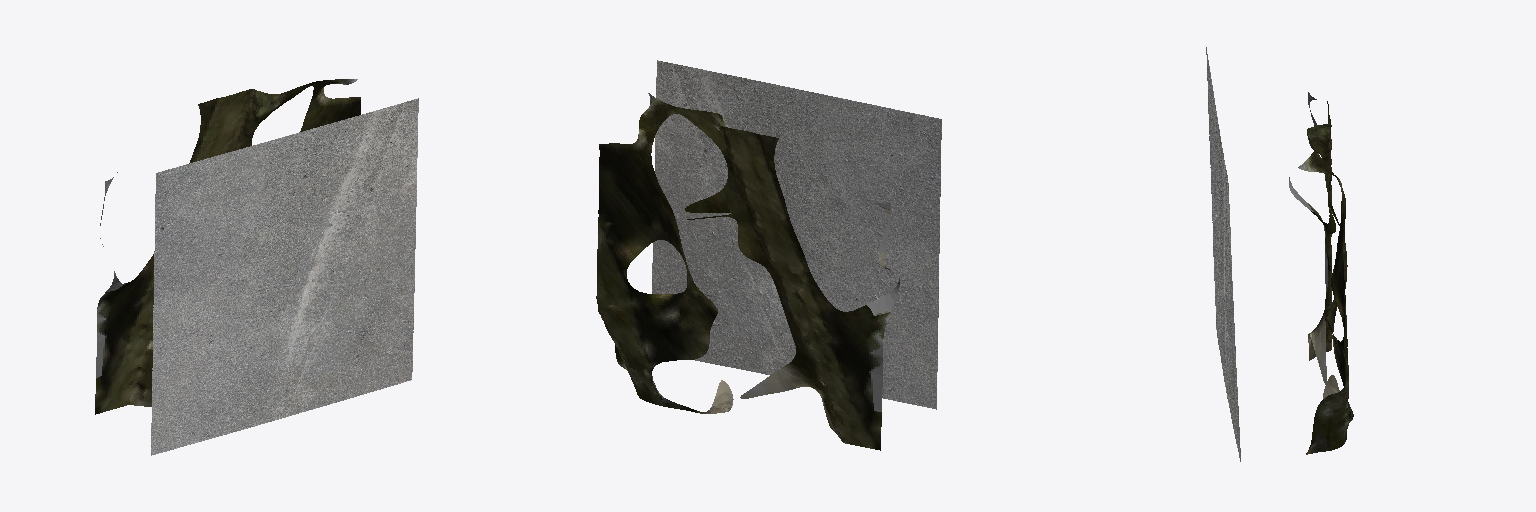
3 renders of one model, left to right at view 1: azimuth 30°, elevation 25°; view 2: azimuth 150°, elevation 25°; view 3: azimuth 270°, elevation 25°, orthographic.
Size of the model in its own units: 3.03 by 3.03 by 1.41.
Materials: 2 (1 with a texture image).